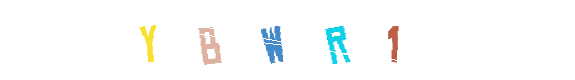1: (354, 0, 434, 80)
B: (182, 0, 262, 80)
R: (265, 0, 345, 80)
W: (248, 0, 328, 80)
Y: (109, 0, 189, 80)
